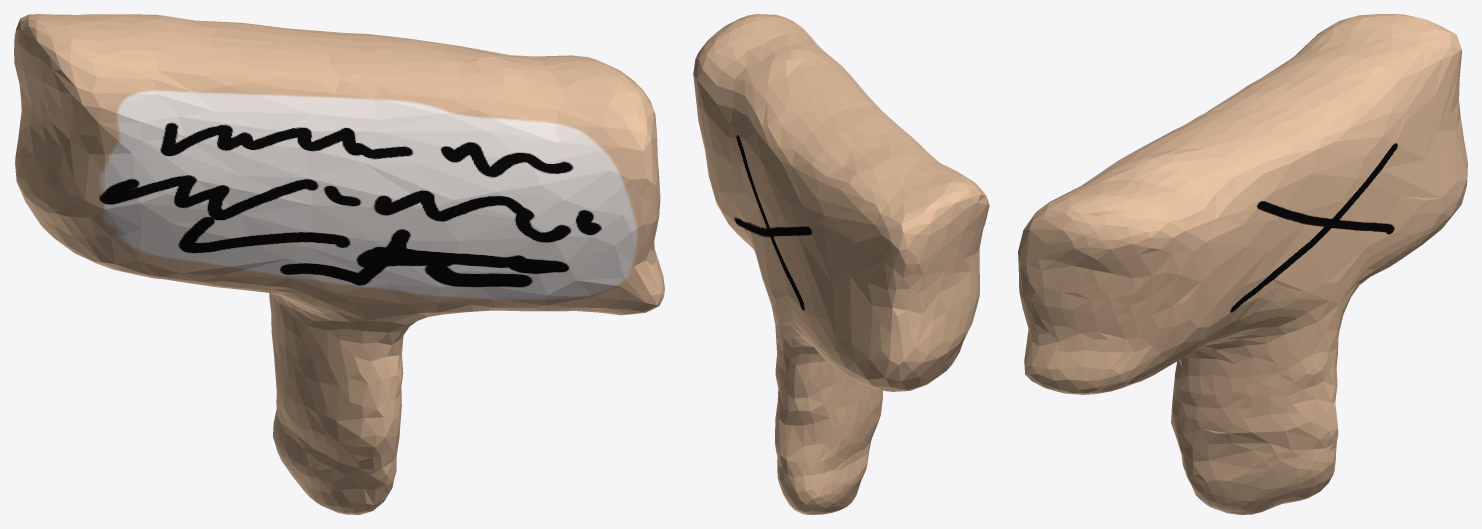
Rendered from signpost.glb.
3 views of the same model, side by side, from view 1: azimuth 30°, elevation 25°; view 2: azimuth 150°, elevation 25°; view 3: azimuth 270°, elevation 25° (orthographic). The views are drawn at different scales.
Parts seen in each view (by area): view 1: Cube; view 2: Cube; view 3: Cube.
Boxes of the visible parts, box(x1,y1,x2,y2) form: Cube: box(14, 14, 664, 514); Cube: box(693, 14, 989, 514); Cube: box(1018, 14, 1467, 514).
Size of the model in its own units: 1 by 1 by 1.
1 material, 1 textured.
